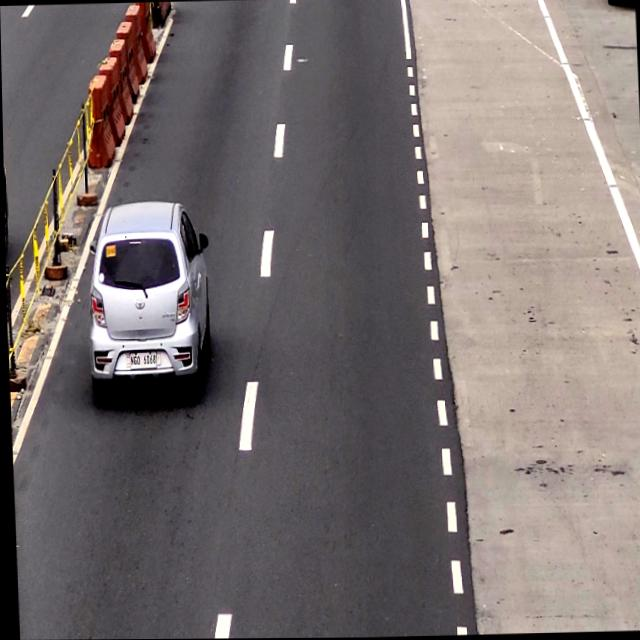Car: (85, 203, 210, 396)
License-Plate: (128, 352, 156, 372)
